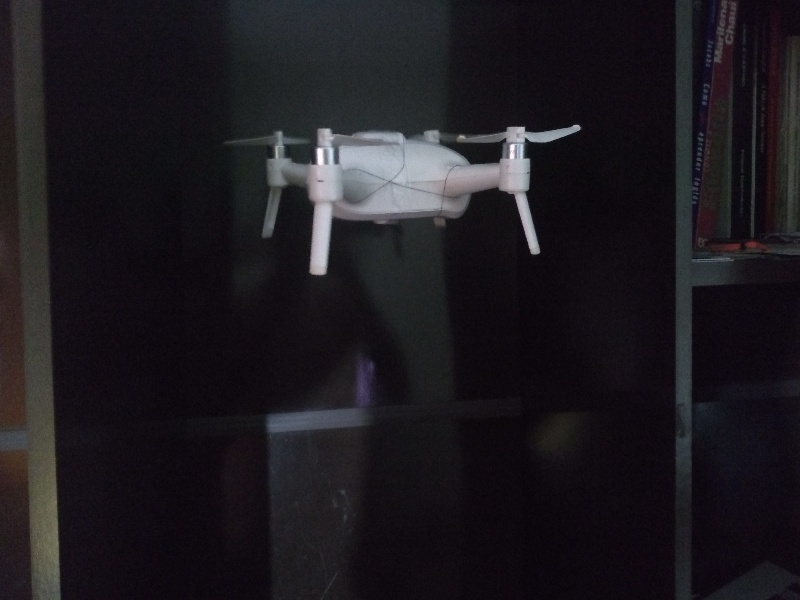drone: (228, 111, 580, 269)
